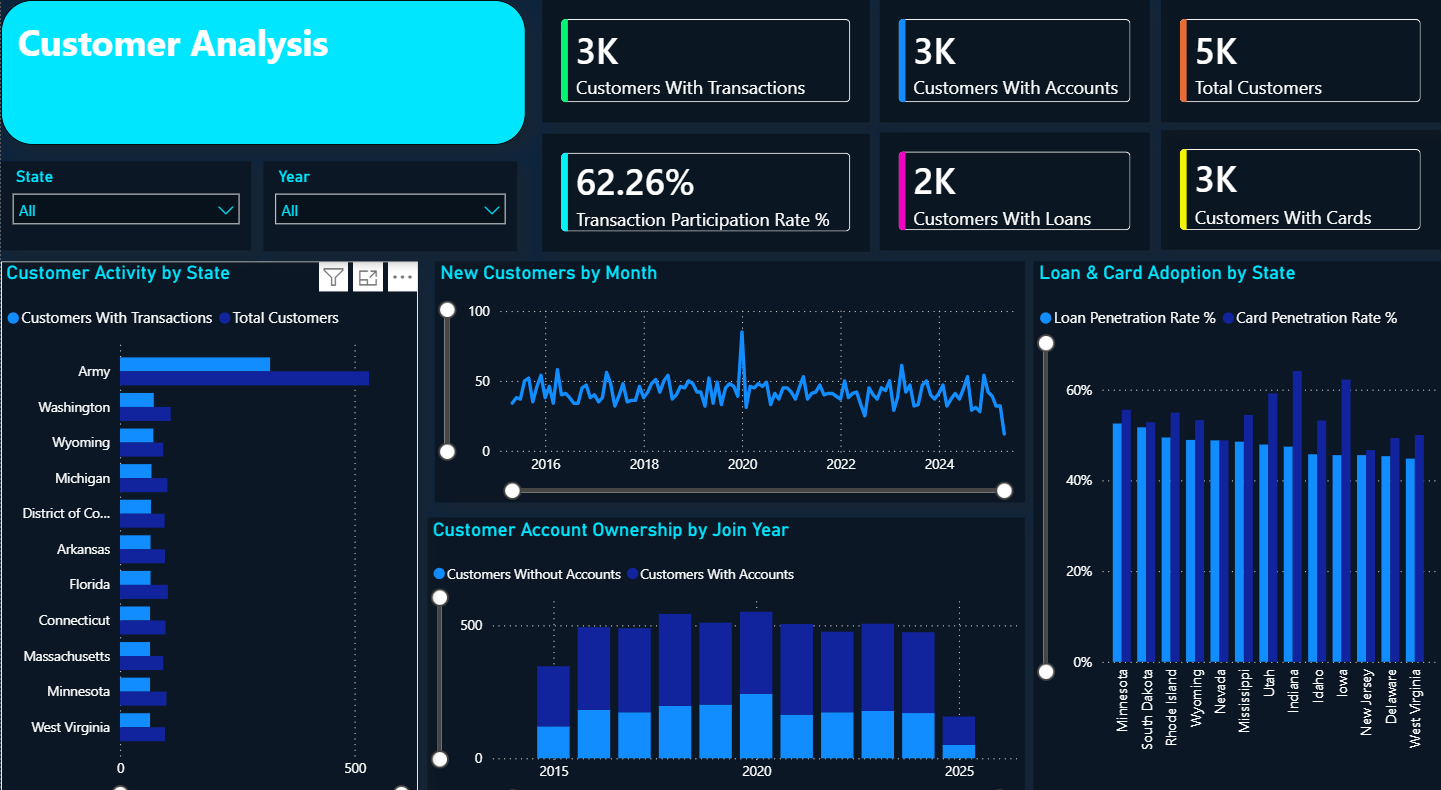

What the dashboard file says about the page in this screenshot:
{"tool":"powerbi","page":{"name":"Customer Analysis","canvas":[1280,720],"ordinal":1},"visuals":[{"type":"cardVisual","fields":{"Data":["Measure.Customers With Transactions"]},"box":[481.1,0,291.1,108.9],"z":0},{"type":"cardVisual","fields":{"Data":["Measure.Transaction Participation Rate %"]},"box":[481.1,118.9,291.1,104.4],"z":1000},{"type":"cardVisual","fields":{"Data":["Measure.Customers With Cards"]},"box":[1031.1,115.6,248.9,106.7],"z":2000},{"type":"cardVisual","fields":{"Data":["Measure.Total Customers"]},"box":[1031.1,0,248.9,108.9],"z":3000},{"type":"cardVisual","fields":{"Data":["Measure.Customers With Accounts"]},"box":[781.1,0,240,108.9],"z":4000},{"type":"cardVisual","fields":{"Data":["Measure.Customers With Loans"]},"box":[781.1,117.8,240,104.4],"z":5000},{"type":"textbox","box":[0,0,466.7,128.9],"z":6000},{"type":"lineChart","title":"New Customers by Month","fields":{"Y":["Measure.Total Customers"],"Category":["customers.JoinDate.Variation.Date Hierarchy.Year","customers.JoinDate.Variation.Date Hierarchy.Month"]},"box":[385.6,232.2,524.4,214.4],"z":7000},{"type":"columnChart","title":"Customer Account Ownership by Join Year","fields":{"Y":["Measure.Customers Without Accounts","Measure.Customers With Accounts"],"Category":["customers.JoinDate.Variation.Date Hierarchy.Year"]},"box":[378.9,460,531.1,260],"z":8000},{"type":"clusteredBarChart","title":"Customer Activity by State","fields":{"Category":["customers.State"],"Y":["Measure.Customers With Transactions","Measure.Total Customers"]},"box":[0,232.2,371.1,484.4],"z":9000},{"type":"clusteredColumnChart","title":"Loan & Card Adoption by State","fields":{"Category":["customers.State"],"Y":["Measure.Loan Penetration Rate %","Measure.Card Penetration Rate %"]},"box":[917.8,232.2,362.2,487.8],"z":10000},{"type":"slicer","fields":{"Values":["customers.State"]},"box":[0,143.3,222.2,78.9],"z":11000},{"type":"slicer","fields":{"Values":["customers.JoinDate.Variation.Date Hierarchy.Year"]},"box":[233.3,143.3,225.6,80],"z":12000}]}

Visuals, with their boxes in screenshot pixels (x1, y1, x2, y2), scaled from the page's 1280x720 canvas onto the 1441x790 screenshot:
cardVisual - Measure.Customers With Transactions: locate(542, 0, 869, 119)
cardVisual - Measure.Transaction Participation Rate %: locate(542, 130, 869, 245)
cardVisual - Measure.Customers With Cards: locate(1161, 127, 1440, 244)
cardVisual - Measure.Total Customers: locate(1161, 0, 1440, 119)
cardVisual - Measure.Customers With Accounts: locate(879, 0, 1150, 119)
cardVisual - Measure.Customers With Loans: locate(879, 129, 1150, 244)
textbox: locate(0, 0, 525, 141)
"New Customers by Month" lineChart: locate(434, 255, 1024, 490)
"Customer Account Ownership by Join Year" columnChart: locate(427, 505, 1024, 789)
"Customer Activity by State" clusteredBarChart: locate(0, 255, 418, 786)
"Loan & Card Adoption by State" clusteredColumnChart: locate(1033, 255, 1440, 789)
slicer - customers.State: locate(0, 157, 250, 244)
slicer - customers.JoinDate.Variation.Date Hierarchy.Year: locate(263, 157, 517, 245)
